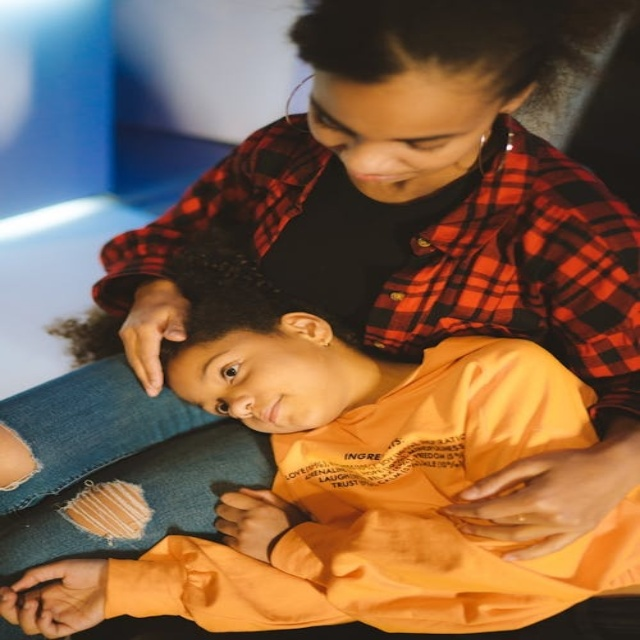Sin_gafas: (302, 90, 463, 152), (202, 340, 256, 427)
Sin_guantes: (438, 430, 635, 562), (3, 556, 113, 638), (213, 488, 308, 563)
Sin_mascara: (338, 159, 421, 186), (260, 387, 298, 432)
